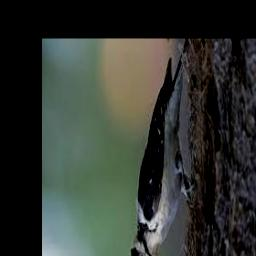Woodpecker: (121, 47, 194, 256)
